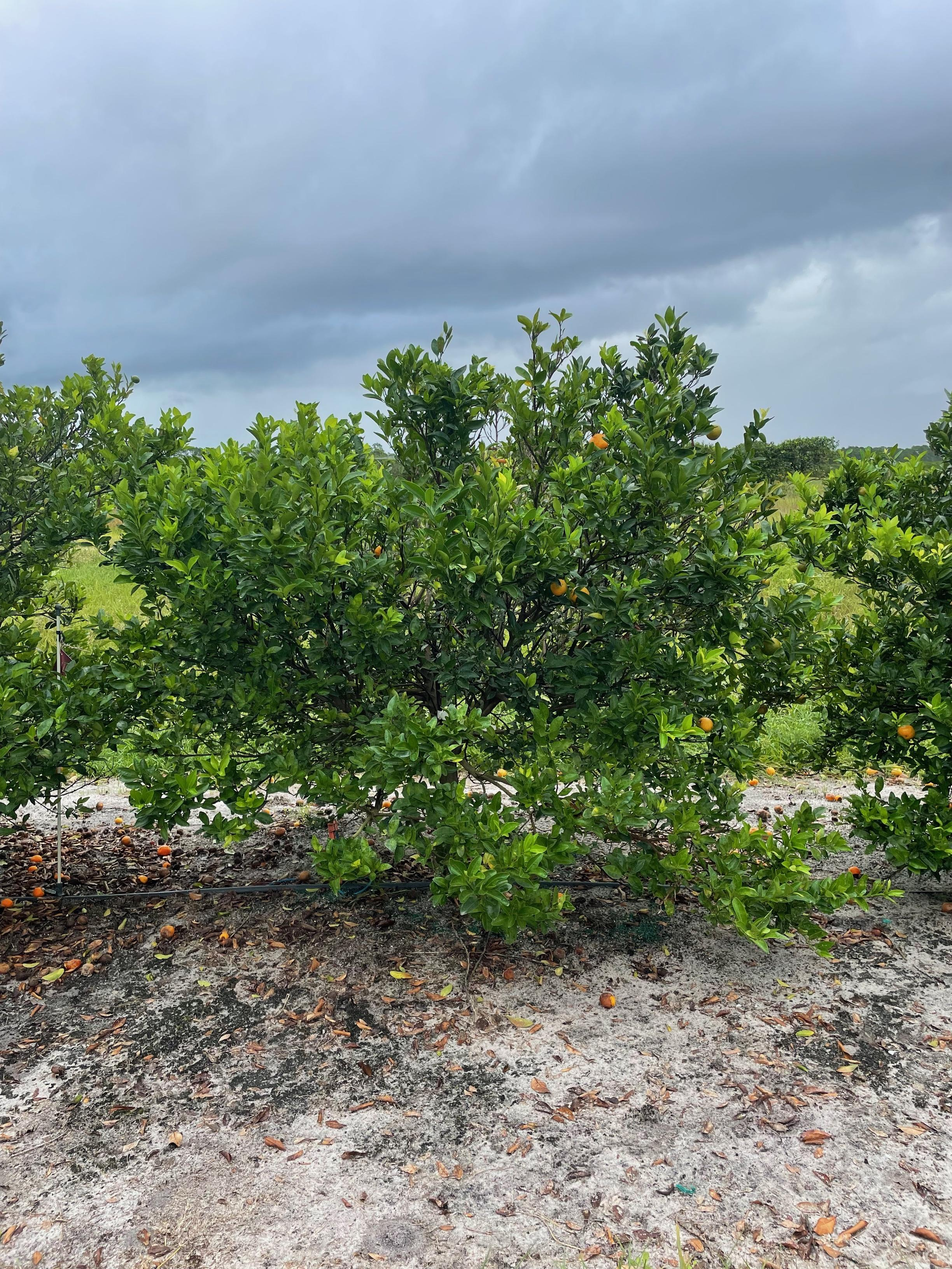fruit_on_ground: (568, 585, 591, 607), (760, 634, 783, 656), (588, 432, 611, 453), (695, 713, 716, 734), (548, 578, 569, 597), (896, 722, 917, 741), (704, 423, 723, 441), (794, 692, 807, 705), (756, 703, 769, 715), (796, 561, 808, 573), (760, 577, 771, 588), (130, 374, 141, 384)
fruit_on_tree: (598, 989, 618, 1009), (158, 922, 176, 939), (257, 805, 274, 820), (889, 764, 905, 778), (157, 842, 173, 856), (28, 851, 45, 864), (938, 899, 952, 914), (133, 872, 149, 885), (1, 895, 15, 909), (31, 884, 45, 898), (864, 765, 879, 778), (297, 868, 312, 881), (272, 823, 287, 836), (847, 863, 862, 876), (922, 778, 937, 790), (495, 767, 509, 779), (380, 799, 394, 810), (824, 791, 838, 802), (464, 788, 476, 800), (762, 827, 774, 839), (749, 824, 761, 836), (93, 799, 105, 811), (121, 834, 133, 846), (113, 814, 125, 825), (765, 764, 777, 775), (773, 802, 785, 813), (747, 776, 760, 786), (26, 864, 38, 873), (162, 860, 171, 869)
